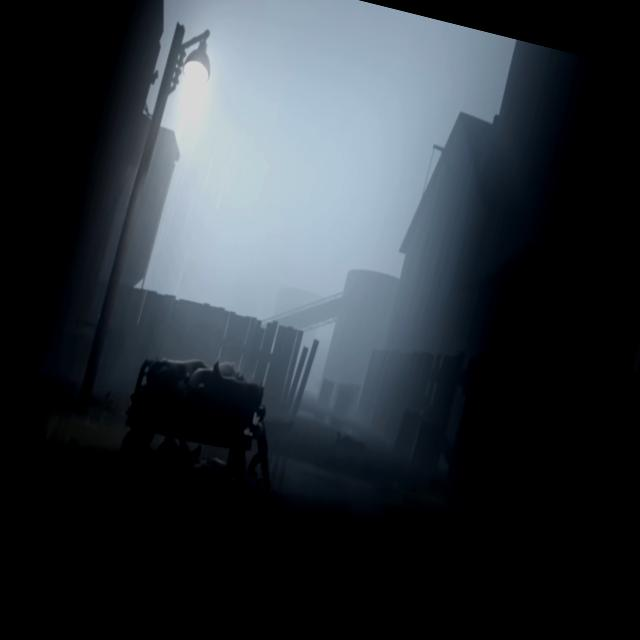boy: (231, 404, 284, 492)
